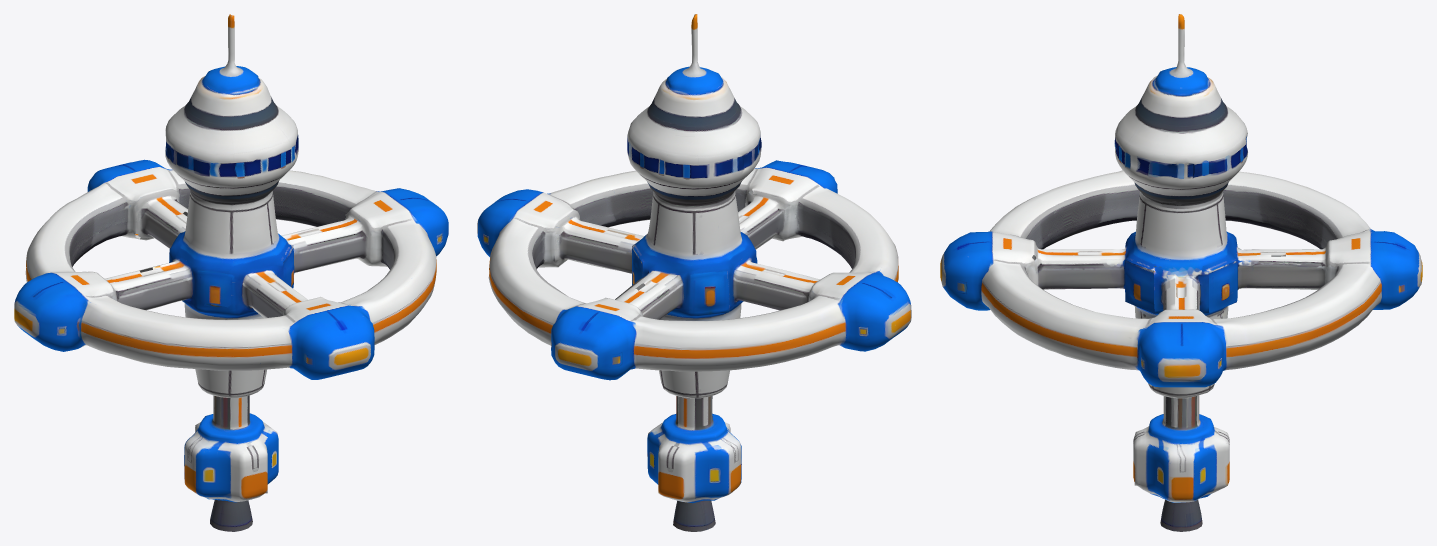
File: Meshy_AI_Blue_Ring_Station_0709062015_texture.glb
3 renders of one model, left to right at view 1: azimuth 30°, elevation 25°; view 2: azimuth 150°, elevation 25°; view 3: azimuth 270°, elevation 25°, orthographic.
Size of the model in its own units: 1.64 by 1.91 by 1.64.
1 material, 1 textured.
